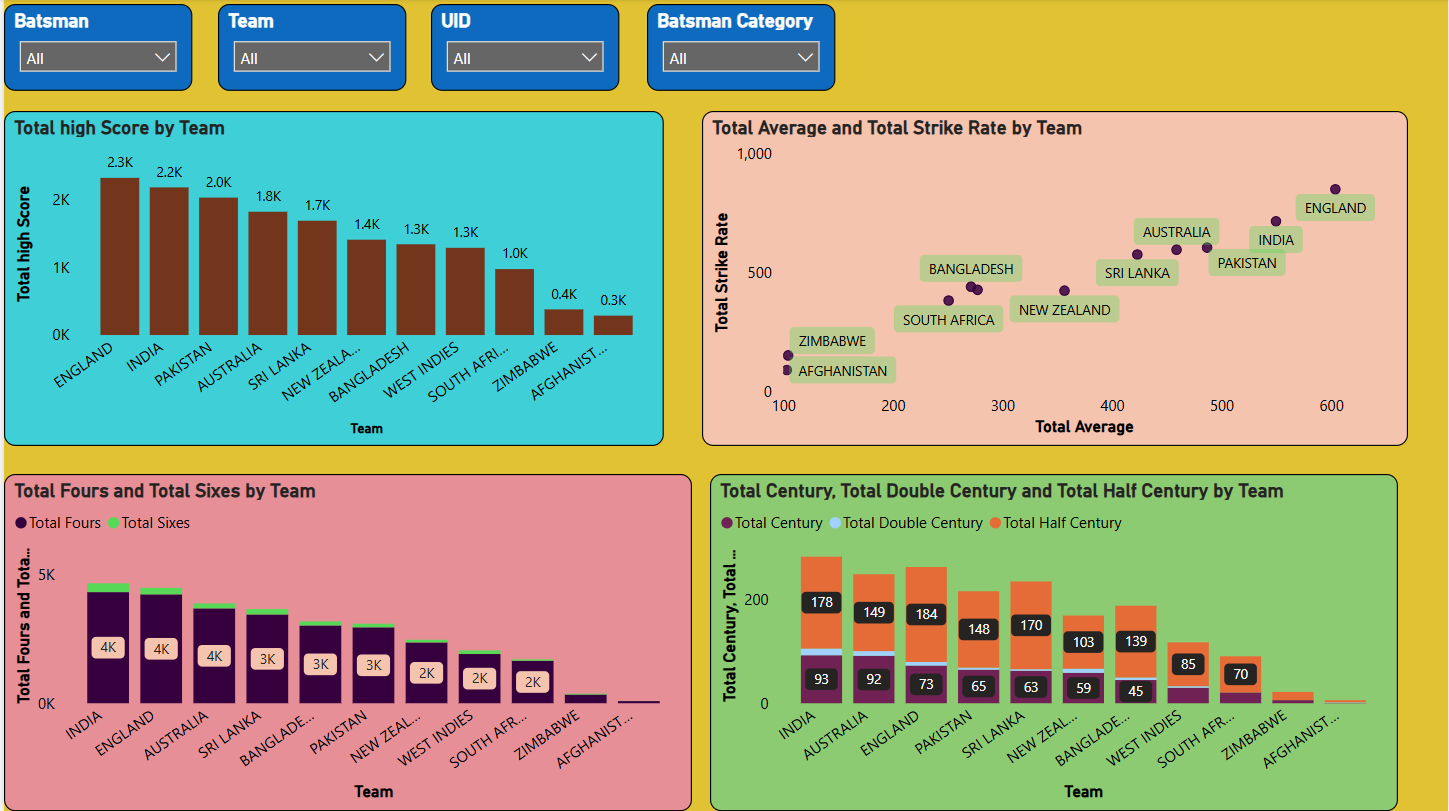

Layout of this report page (visuals, bound fields, positions):
{"tool":"powerbi","page":{"name":"Score Analysis by Team","canvas":[1280,720],"ordinal":5},"visuals":[{"type":"columnChart","fields":{"Category":["top100batsman.team"],"Y":["Sum(top100batsman.fours)","Sum(top100batsman.sixes)"]},"box":[0,421.2,609.8,298.6],"z":0},{"type":"columnChart","fields":{"Category":["top100batsman.team"],"Y":["Sum(top100batsman.century)","Sum(top100batsman.double_century)","Sum(top100batsman.half_century)"]},"box":[626.4,421.2,609.8,298.6],"z":1000},{"type":"scatterChart","fields":{"X":["Sum(top100batsman.average)"],"Y":["top100batsman.strike_rate"],"Category":["top100batsman.team"]},"box":[618.6,99.2,626.4,296.7],"z":2000},{"type":"columnChart","fields":{"Category":["top100batsman.team"],"Y":["Sum(top100batsman.high_score)"]},"box":[0,99.2,584.6,296.7],"z":3000},{"type":"slicer","title":"Team","fields":{"Values":["top100batsman.team"]},"box":[189.7,4.9,167.3,76.8],"z":4000},{"type":"slicer","title":"Batsman","fields":{"Values":["top100batsman.batsman"]},"box":[0,4.9,167.3,76.8],"z":5000},{"type":"slicer","title":"UID","fields":{"Values":["top100batsman.UID"]},"box":[378.4,4.9,167.3,76.8],"z":6000},{"type":"slicer","title":"Batsman Category","fields":{"Values":["top100batsman.Batsman Category"]},"box":[570,4.9,167.3,76.8],"z":7000}]}

Visuals, with their boxes in screenshot pixels (x1, y1, x2, y2), scaled from the page's 1280x720 canvas onto the 1449x811 screenshot:
columnChart - top100batsman.team x Sum(top100batsman.fours): [left=0, top=474, right=690, bottom=810]
columnChart - top100batsman.team x Sum(top100batsman.century): [left=709, top=474, right=1399, bottom=810]
scatterChart - Sum(top100batsman.average) x top100batsman.strike_rate: [left=700, top=112, right=1409, bottom=446]
columnChart - top100batsman.team x Sum(top100batsman.high_score): [left=0, top=112, right=662, bottom=446]
"Team" slicer: [left=215, top=6, right=404, bottom=92]
"Batsman" slicer: [left=0, top=6, right=189, bottom=92]
"UID" slicer: [left=428, top=6, right=618, bottom=92]
"Batsman Category" slicer: [left=645, top=6, right=835, bottom=92]
